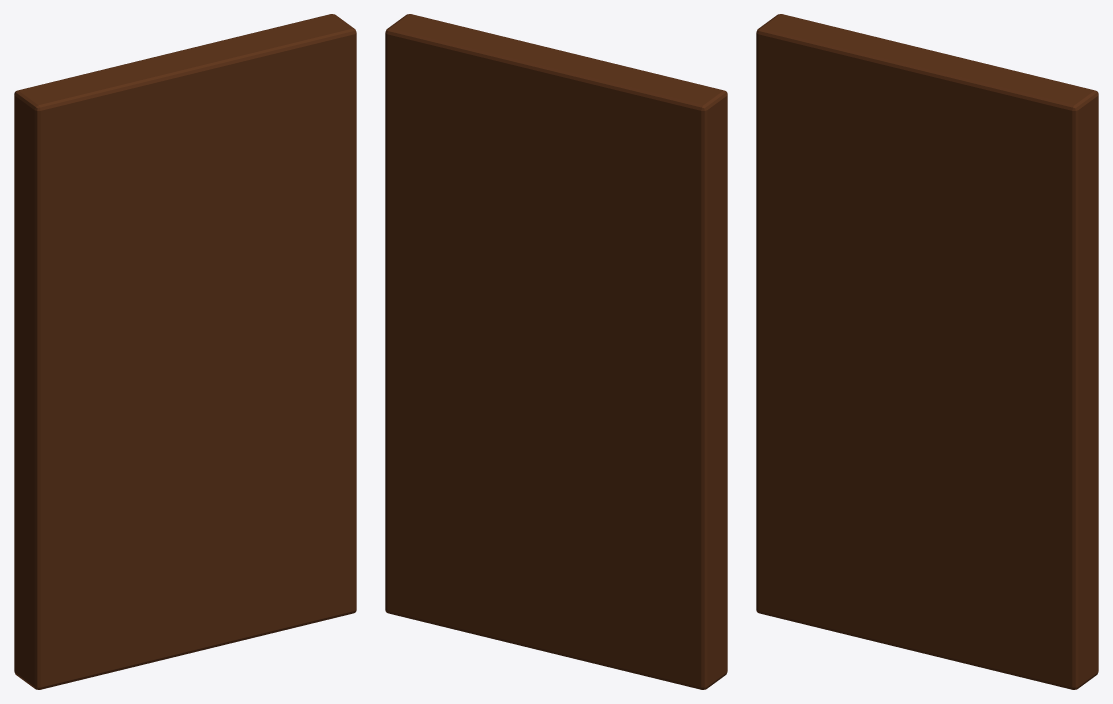
Rendered from door_bronze_pivot_LOD2.glb.
The picture shows the model from 3 angles, left to right: view 1: azimuth 30°, elevation 25°; view 2: azimuth 150°, elevation 25°; view 3: azimuth 330°, elevation 25°; orthographic projection.
Visible parts, largest first — view 1: LOD2_BronzeDoor; view 2: LOD2_BronzeDoor; view 3: LOD2_BronzeDoor.
Boxes of the visible parts, left/top/right/bottom form: LOD2_BronzeDoor: left=14, top=14, right=356, bottom=689; LOD2_BronzeDoor: left=385, top=14, right=727, bottom=689; LOD2_BronzeDoor: left=756, top=14, right=1098, bottom=689.
Size of the model in its own units: 1.52 by 2.64 by 0.2.
